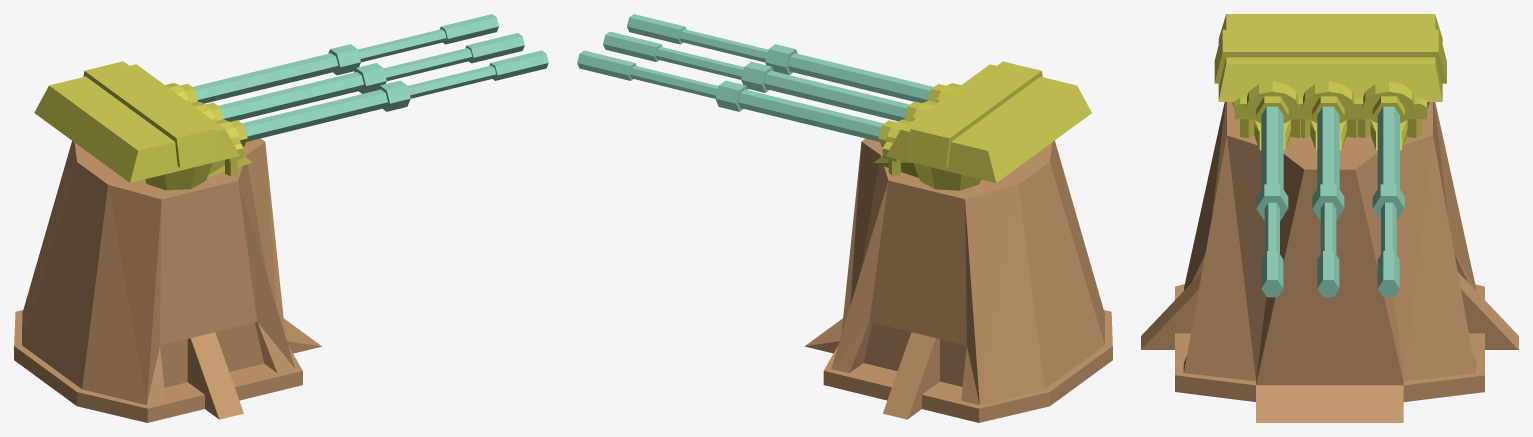
File: Cannon-RRR-3.fbx
3 views of the same model, side by side, from view 1: azimuth 30°, elevation 25°; view 2: azimuth 150°, elevation 25°; view 3: azimuth 270°, elevation 25° (orthographic). The views are drawn at different scales.
Parts seen in each view (by area): view 1: russian_3:base, russian_3:attavk; view 2: russian_3:base, russian_3:attavk; view 3: russian_3:base, russian_3:attavk.
Boxes of the visible parts, <box> form: russian_3:base: <box>14,138,321,422</box>; russian_3:attavk: <box>34,14,548,190</box>; russian_3:base: <box>804,138,1112,422</box>; russian_3:attavk: <box>577,14,1091,190</box>; russian_3:base: <box>1141,102,1518,422</box>; russian_3:attavk: <box>1214,14,1446,297</box>.
Size of the model in its own units: 417 by 217 by 246.
